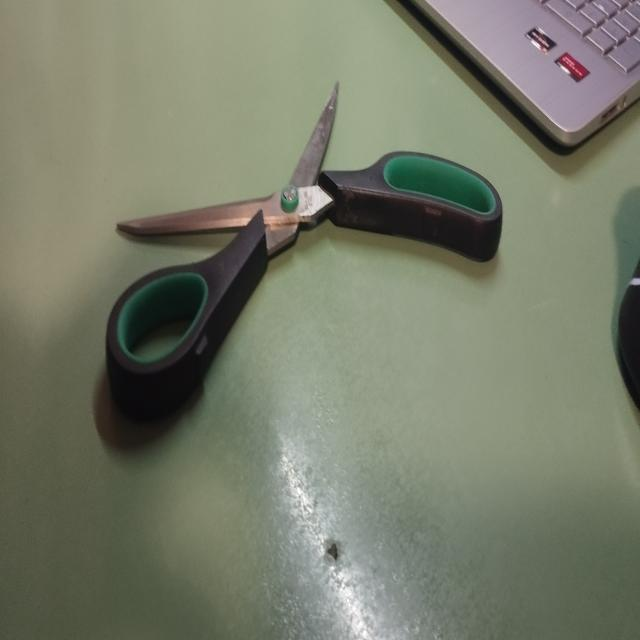tesoura: (102, 68, 507, 424)
